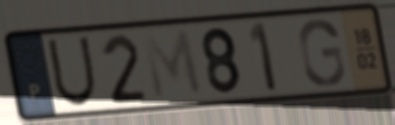1: (247, 20, 281, 94)
2: (99, 31, 150, 106)
8: (200, 25, 245, 97)
G: (296, 17, 347, 89)
M: (139, 27, 207, 103)
U: (44, 34, 99, 110)
